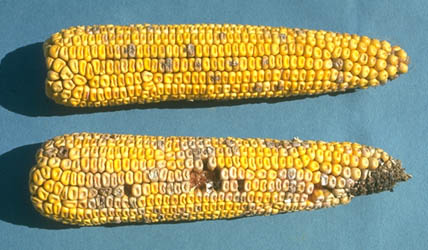corn: (27, 129, 411, 226), (45, 22, 407, 109)
